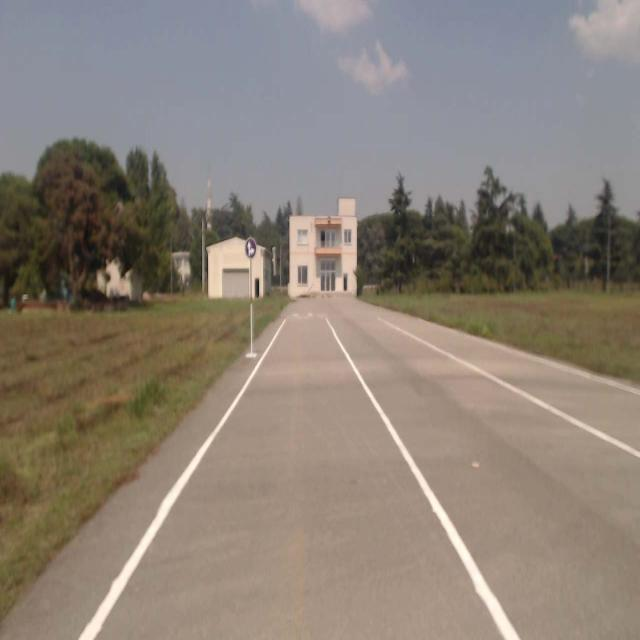ilerisag: (245, 239, 255, 258)
